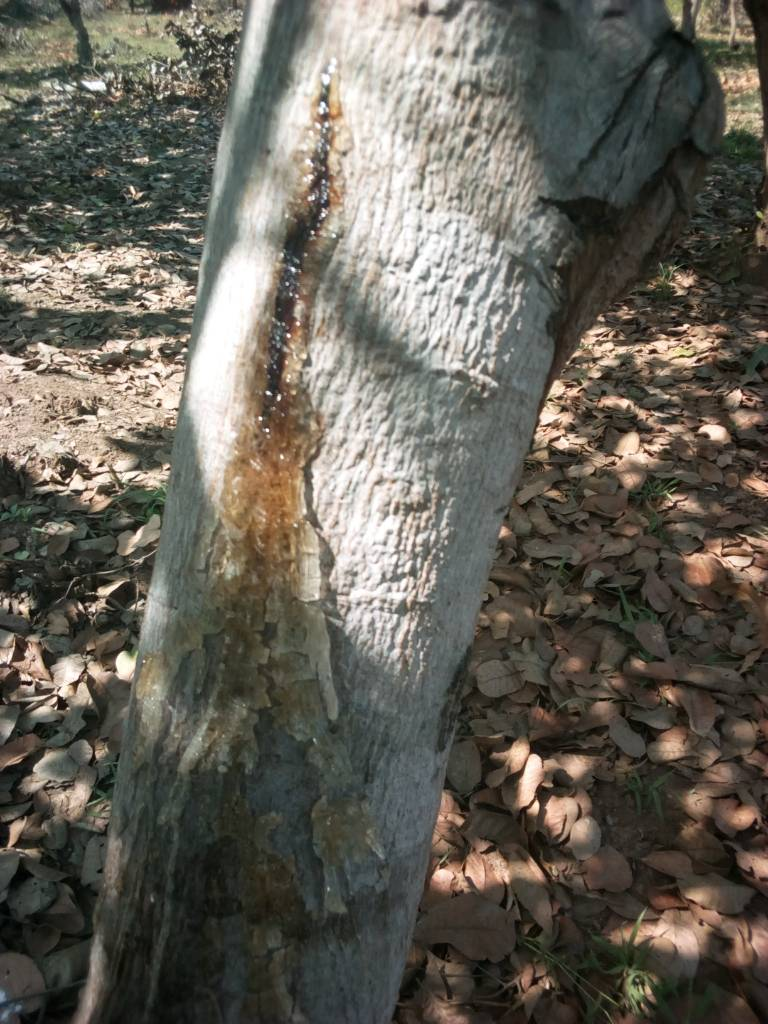Gommose: (127, 69, 358, 1024)
